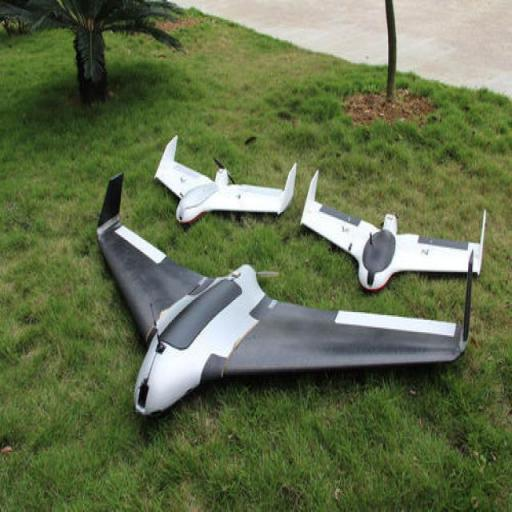uav: (310, 166, 496, 292)
